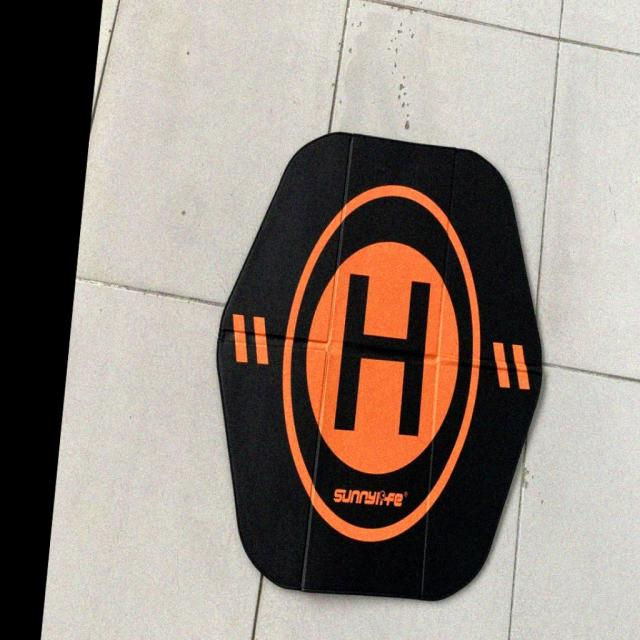helipad: (279, 180, 484, 544)
